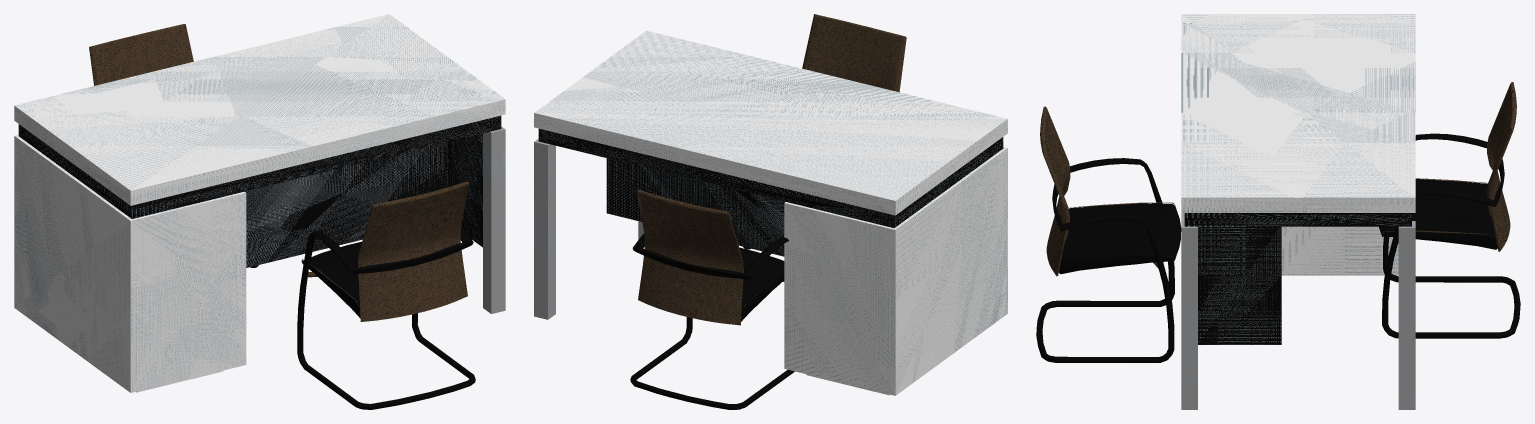
The picture shows the model from 3 angles, left to right: view 1: azimuth 30°, elevation 25°; view 2: azimuth 150°, elevation 25°; view 3: azimuth 270°, elevation 25°; orthographic projection. The views are drawn at different scales.
Visible parts, largest first — view 1: Component_58 (×6), SCON-STC1-AABAF-3D_1 (×4); view 2: Component_58 (×5), SCON-STC1-AABAF-3D_1 (×4); view 3: Component_58 (×6), SCON-STC1-AABAF-3D_1 (×6).
Boxes of the visible parts, box(x1,y1,x2,y2) form: Component_58 (×6): box(14, 14, 505, 392); SCON-STC1-AABAF-3D_1 (×4): box(89, 24, 475, 409); Component_58 (×5): box(534, 30, 1007, 395); SCON-STC1-AABAF-3D_1 (×4): box(630, 14, 906, 409); Component_58 (×6): box(1181, 14, 1415, 409); SCON-STC1-AABAF-3D_1 (×6): box(1036, 82, 1520, 362).
Size of the model in its own units: 51.18 by 57 by 27.56.
